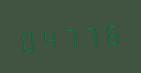four: (39, 22, 59, 53)
seven: (60, 20, 80, 52), (81, 19, 101, 50)
six: (102, 17, 122, 48)
zero: (18, 24, 38, 55)
